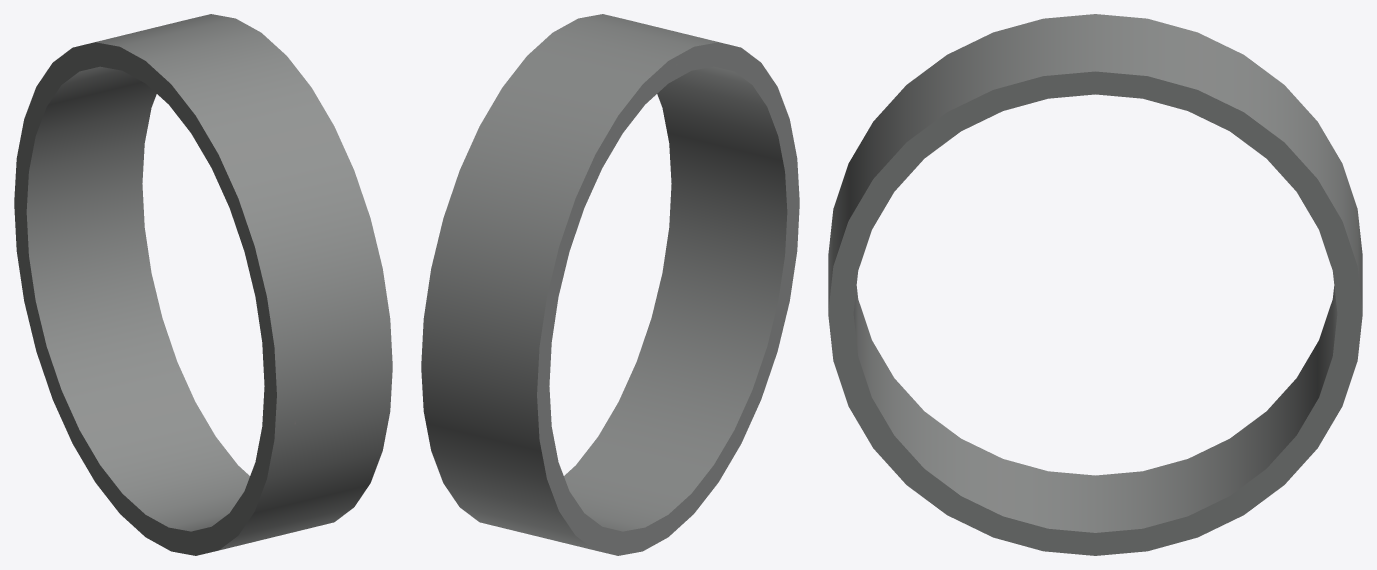
File: Rim.fbx
3 renders of one model, left to right at view 1: azimuth 30°, elevation 25°; view 2: azimuth 150°, elevation 25°; view 3: azimuth 270°, elevation 25°, orthographic.
Parts seen in each view (by area): view 1: Rim; view 2: Rim; view 3: Rim.
Part boxes in pixels (bbox=[...]): Rim: bbox=[14, 14, 392, 555]; Rim: bbox=[421, 14, 799, 555]; Rim: bbox=[828, 14, 1362, 555].
Size of what is drawn, in the model's own units: 0.5089 by 2 by 2.
Materials: 1 (1 with a texture image).
